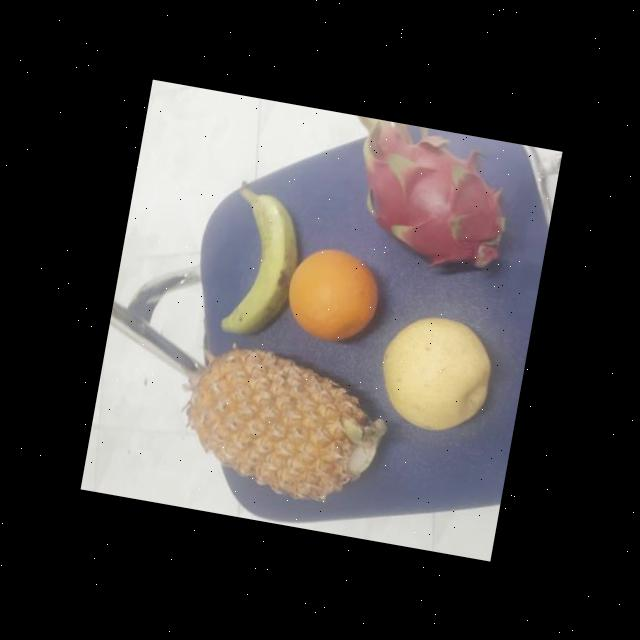banana: (198, 192, 305, 348)
orange: (281, 242, 384, 352)
pear: (366, 306, 498, 445)
pineapple: (178, 340, 390, 514)
pitaya: (348, 119, 520, 278)
